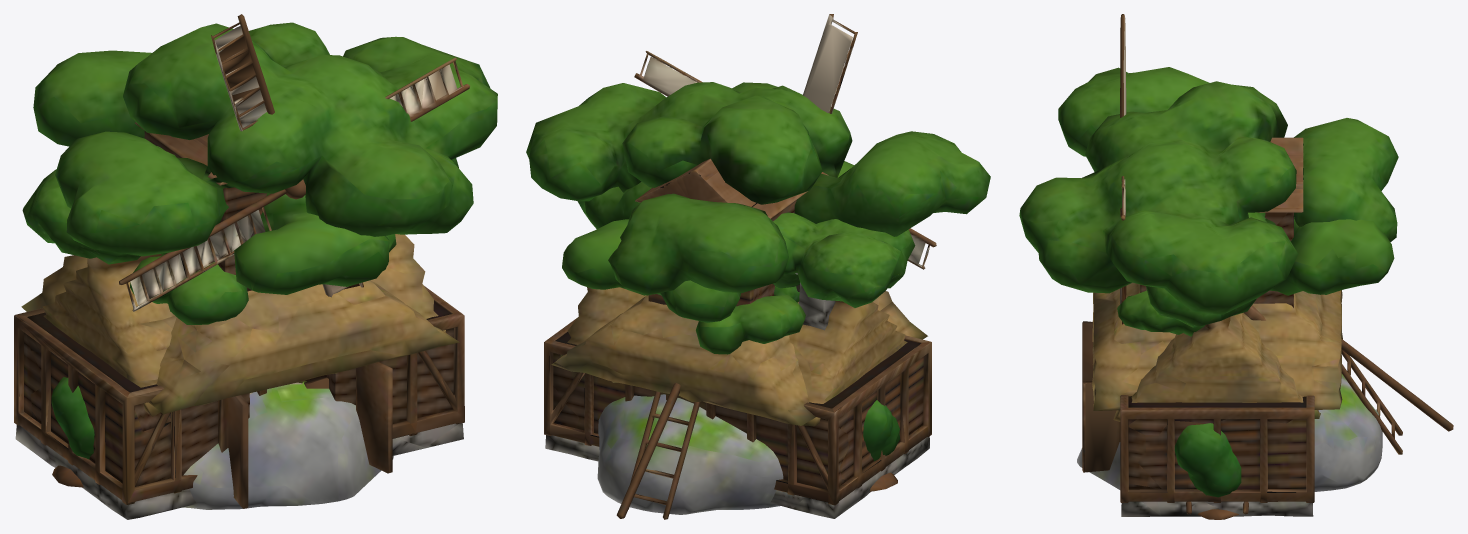
Rendered from medieval_decor_farmland.glb.
3 views of the same model, side by side, from view 1: azimuth 30°, elevation 25°; view 2: azimuth 150°, elevation 25°; view 3: azimuth 270°, elevation 25° (orthographic). The views are drawn at different scales.
Visible parts, largest first — view 1: Oak_A, Barn, Rock_C, Windmill, Oak_B, Cottage, Oak_C, Hedge; view 2: Oak_A, Barn, Oak_B, Rock_C, Windmill, Cottage, Oak_C, Hedge; view 3: Oak_A, Barn, Cottage, Oak_B, Rock_C, Windmill, Hedge, Oak_C.
Boxes of the visible parts, x1,y1,x2,y2 form: Oak_A: [33, 22, 497, 256]; Barn: [14, 255, 464, 519]; Rock_C: [183, 381, 393, 509]; Windmill: [119, 14, 469, 311]; Oak_B: [22, 146, 458, 294]; Cottage: [42, 234, 445, 416]; Oak_C: [130, 234, 396, 324]; Hedge: [51, 377, 94, 487]; Oak_A: [526, 82, 990, 295]; Barn: [544, 291, 931, 518]; Oak_B: [562, 161, 915, 322]; Rock_C: [597, 394, 783, 514]; Windmill: [616, 14, 936, 519]; Cottage: [560, 273, 907, 426]; Oak_C: [696, 286, 805, 354]; Hedge: [863, 400, 899, 491]; Oak_A: [1019, 67, 1398, 314]; Barn: [1082, 282, 1342, 516]; Cottage: [1113, 313, 1320, 421]; Oak_B: [1146, 212, 1394, 327]; Rock_C: [1077, 373, 1382, 491]; Windmill: [1120, 14, 1453, 454]; Hedge: [1174, 423, 1241, 519]; Oak_C: [1117, 290, 1320, 336].
Bounding box in the file's own units: 3.31 × 3.47 × 3.08.
Materials: 1 (1 with a texture image).
